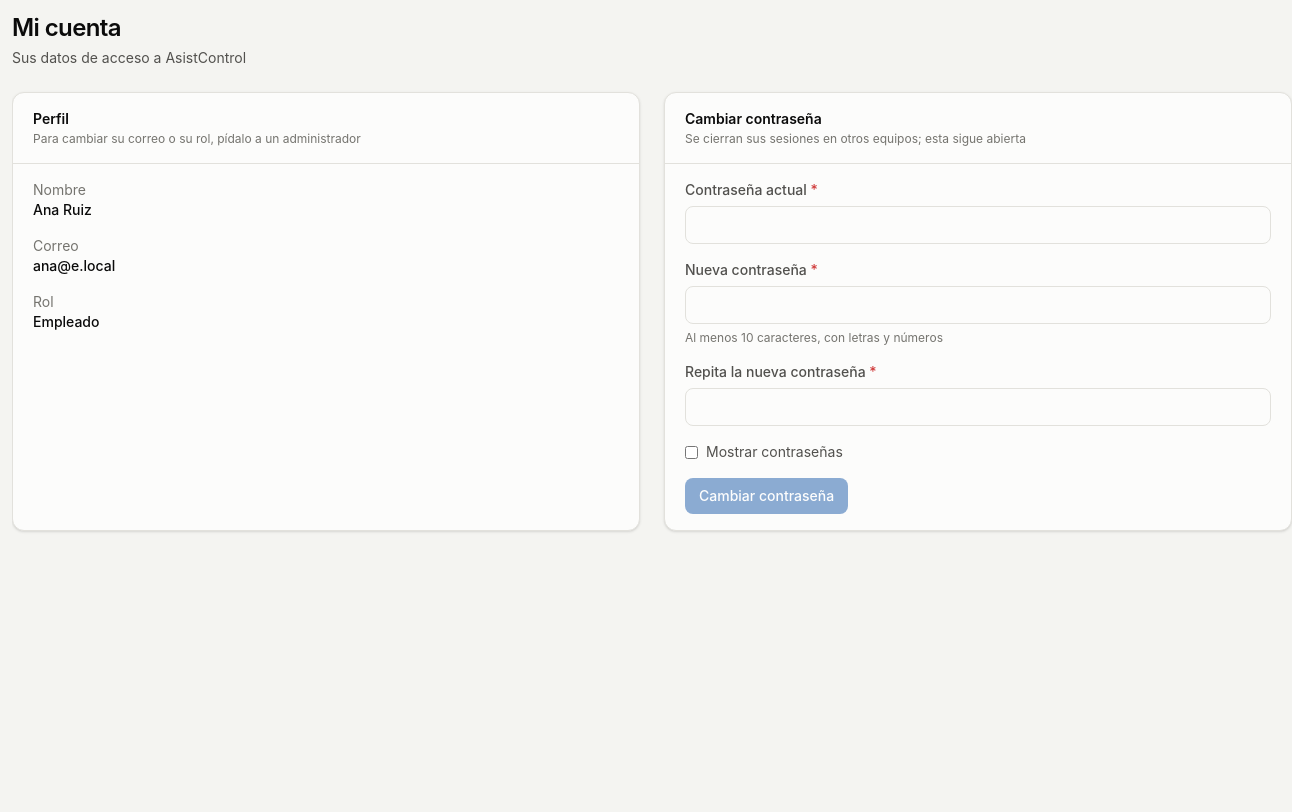
AccountPage › explains a wrong current password without signing out
The image size is (1292, 812).
Step 1. Type "Clave-Errada-2026" into the password field labelled "Contraseña actual" → (978, 225), box 685,206 -> 1271,244
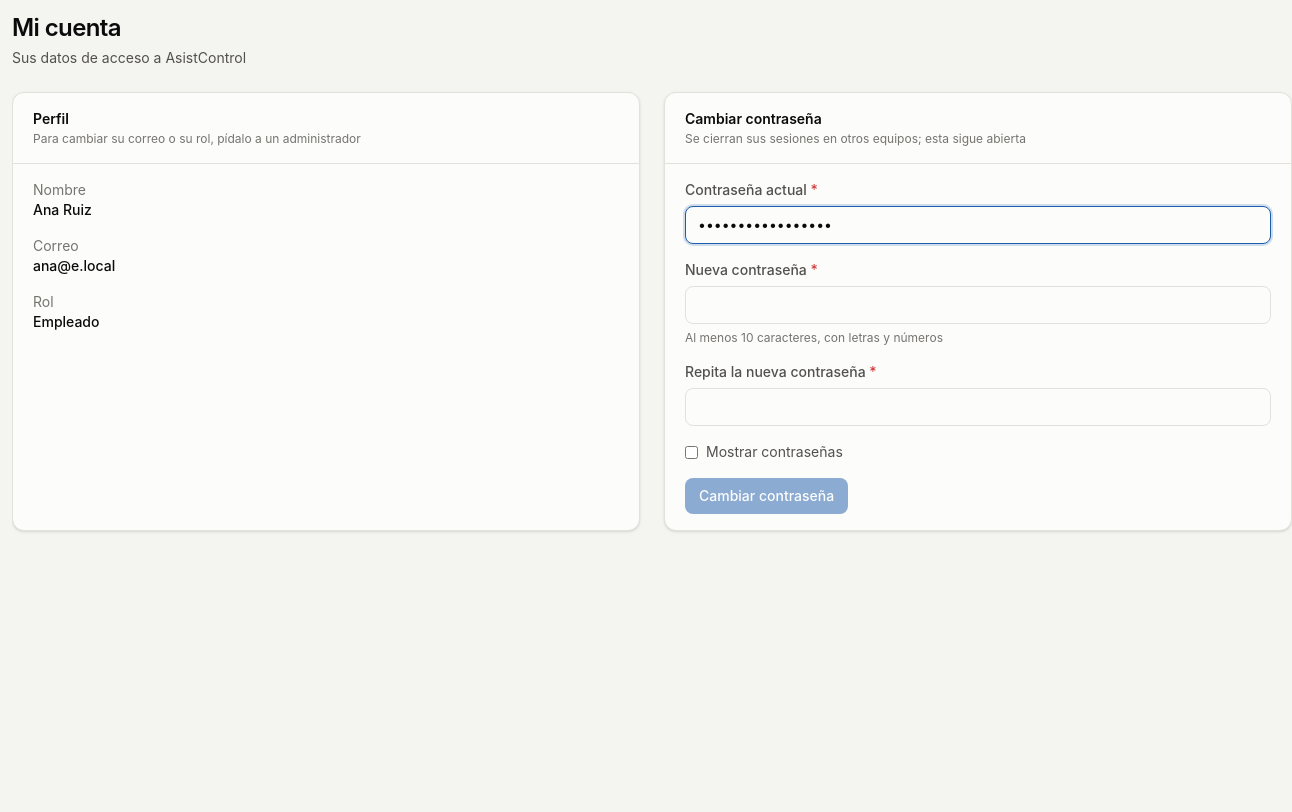
Step 2. Type "Clave-Nueva-2026" into the password field labelled "Nueva contraseña" → (978, 305), box 685,286 -> 1271,324
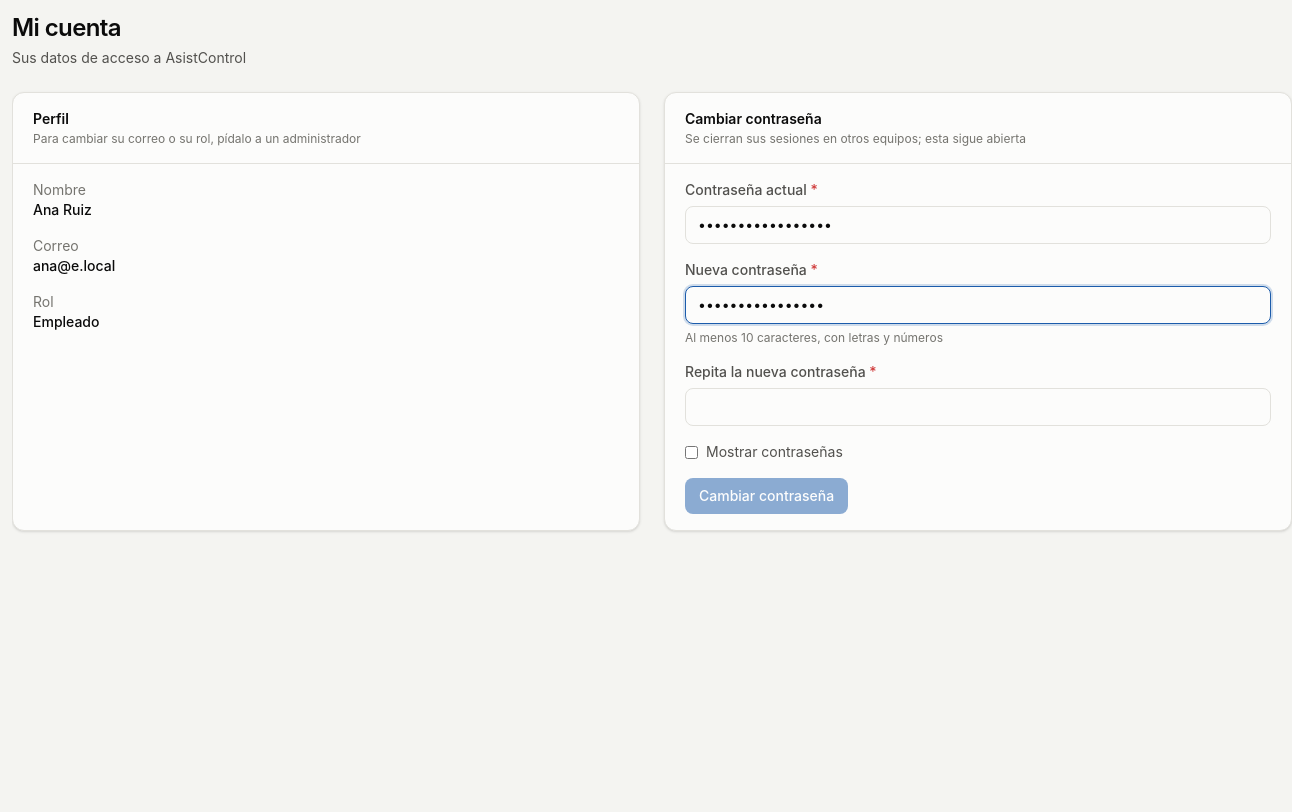
Step 3. Type "Clave-Nueva-2026" into the password field labelled "Repita la nueva contraseña" → (978, 407), box 685,388 -> 1271,426
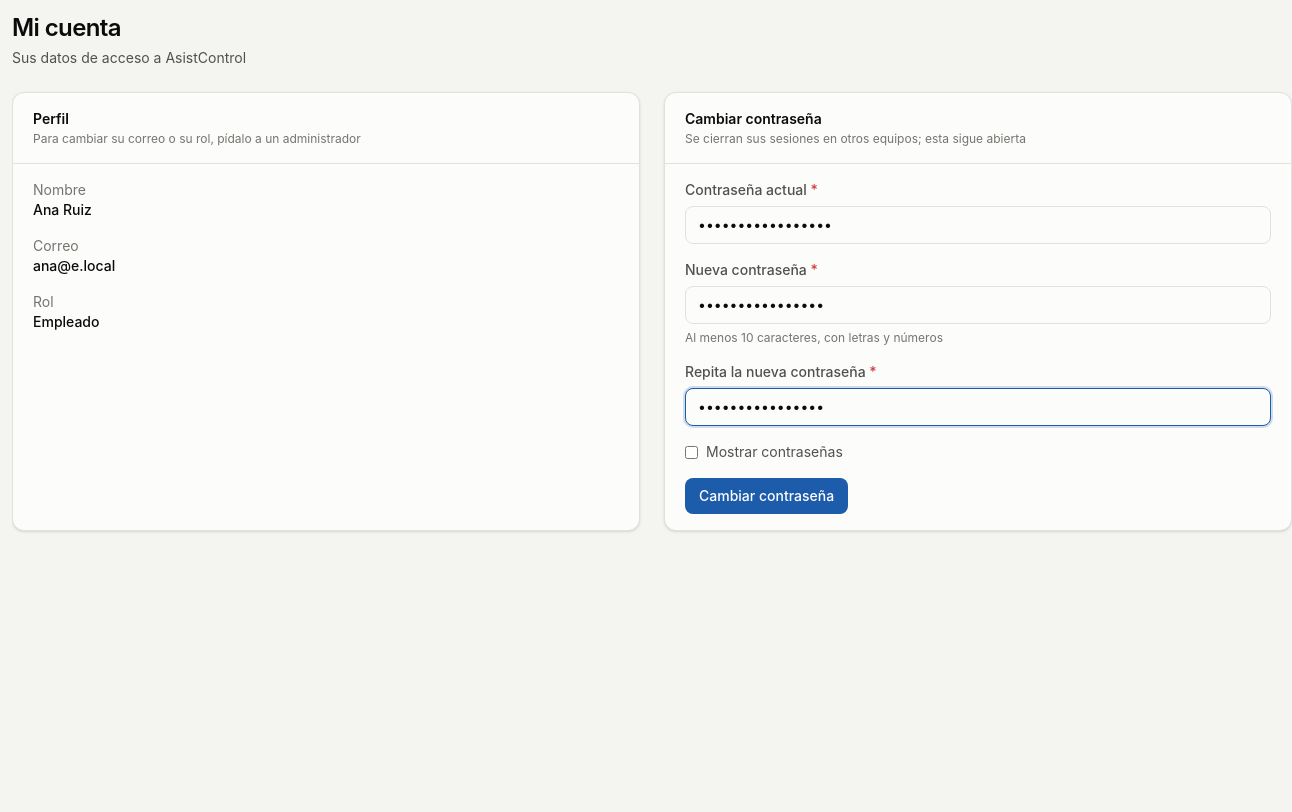
Step 4. Click the button "Cambiar contraseña" → (767, 496), box 685,478 -> 848,514
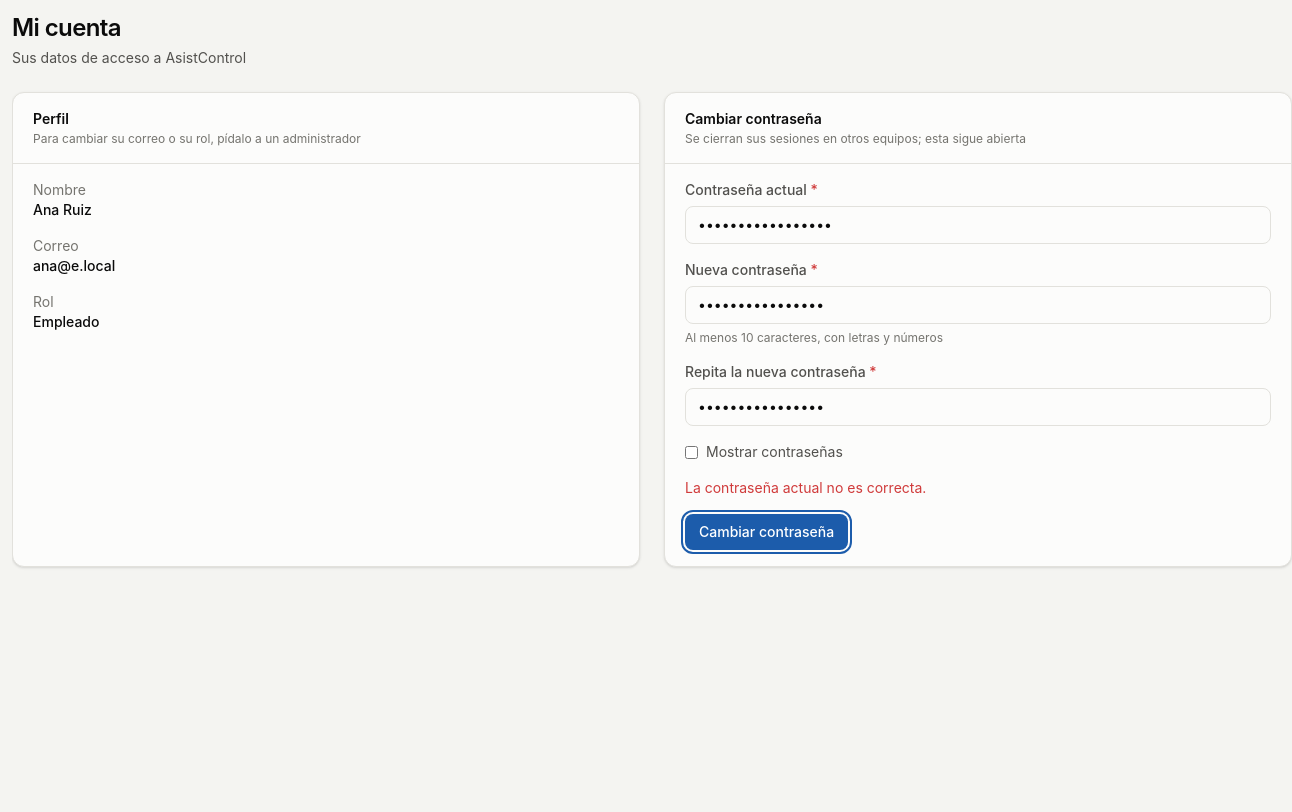
Expected: the message reads "La contraseña actual no es correcta.", 685,479 -> 926,496
